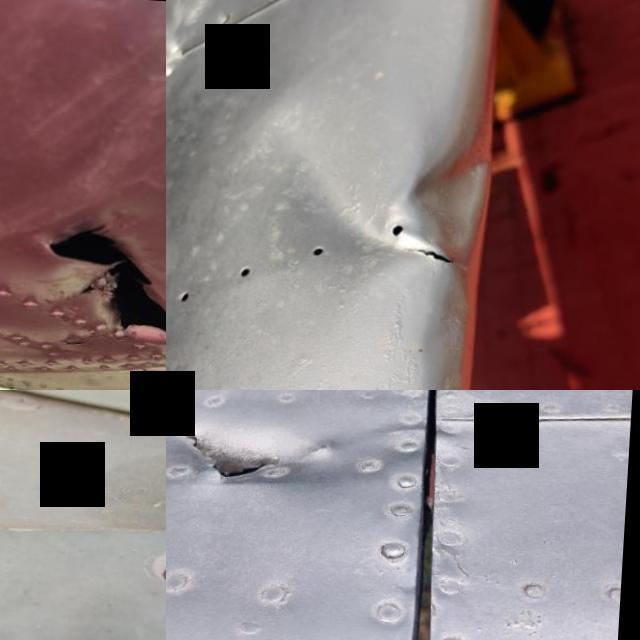Crack: (21, 199, 166, 360), (168, 398, 322, 508), (398, 228, 470, 274)
Dent: (252, 84, 525, 298)
Missing_Fastener: (132, 523, 166, 608)
